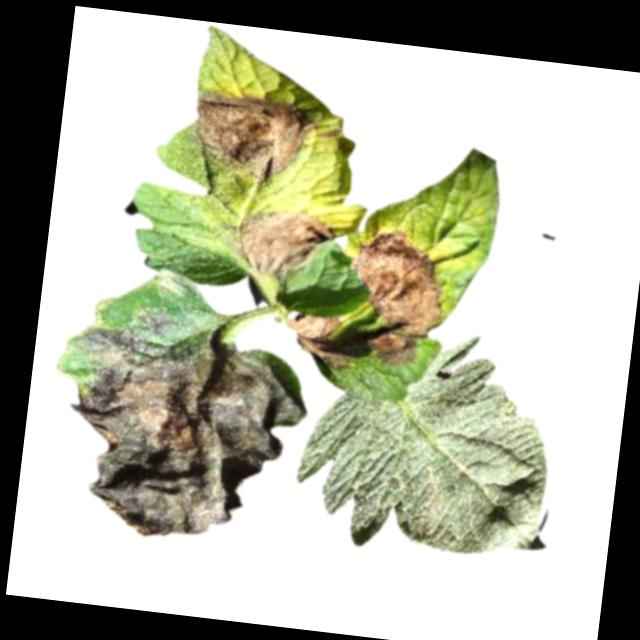Late_blight: (30, 293, 317, 553), (340, 219, 451, 371), (185, 87, 318, 190), (228, 202, 336, 287), (276, 308, 353, 372), (154, 269, 199, 300)
healthy: (287, 314, 563, 566)
